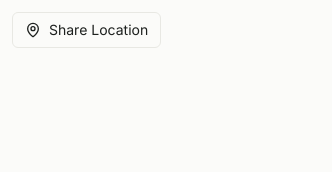
Test case: ShareLocationButton › checks location sharing status and allows toggling on and off
Note: Click to share
Click the button "Share Location" at (87,30), box [12,12,161,48]
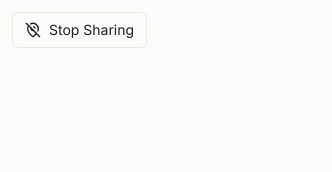
Result: the button "Stop Sharing" is shown
Note: Click to remove
Click the button "Stop Sharing" at (80,30), box [12,12,147,48]
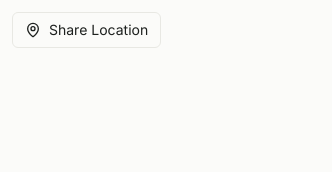
Result: the button "Share Location" is shown at [12,12,161,48]
